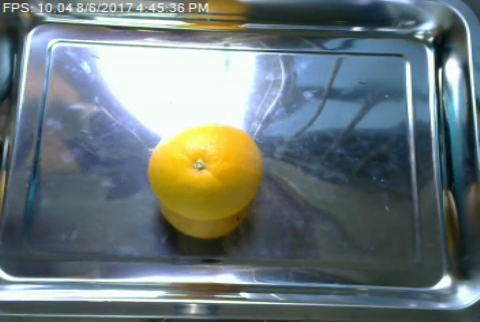Orange: (147, 124, 264, 218)
